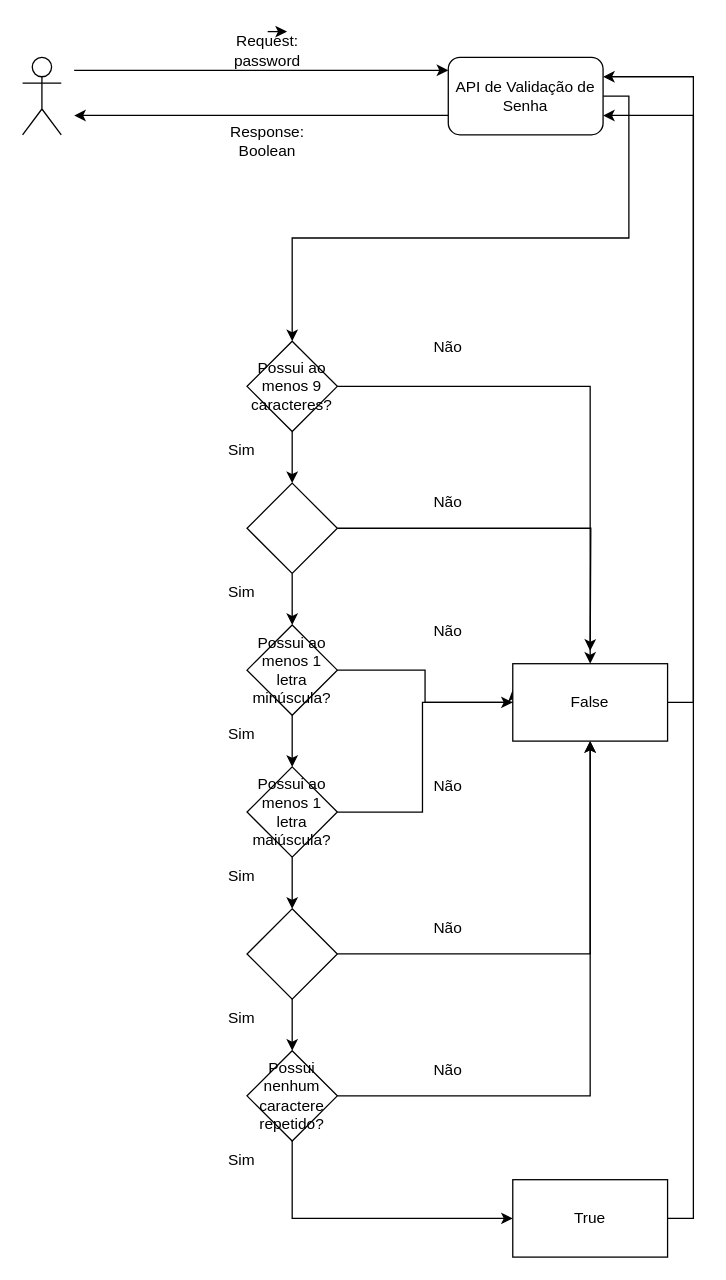
The diagram is 726 pixels wide and 1280 high, and some of its shapes have lost their labels. Here are the shapes that lost their labels. From the top down, the centre of each, then its label:
At (41,95): "Actor".
At (291,527): "Possui ao menos 1 número?".
At (291,953): "Ao menos 1 caractere espeial?".
